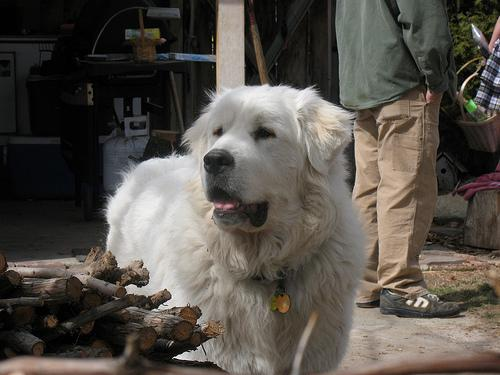dog-great_pyrenees: (186, 85, 350, 230)
